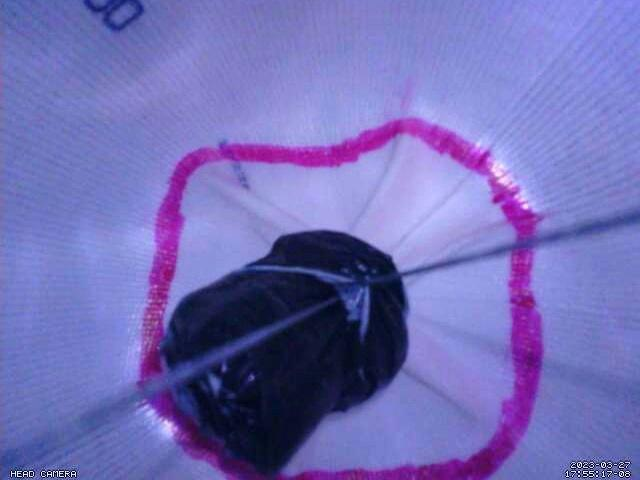red-circle: (137, 116, 546, 480)
